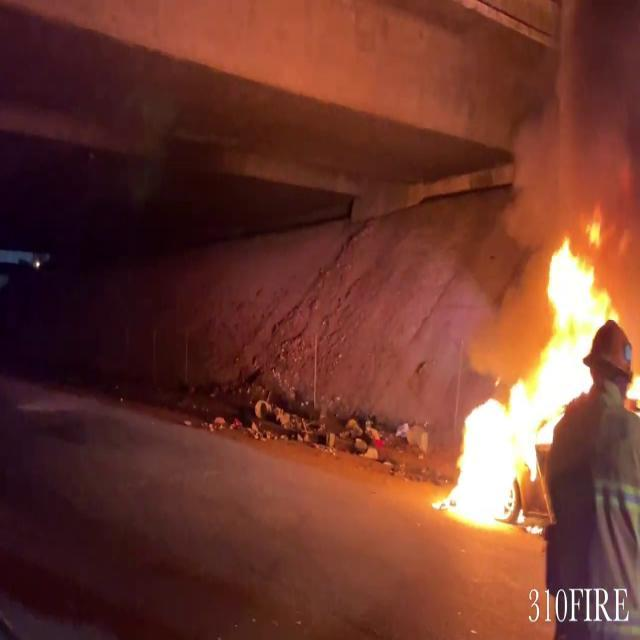Fire: (438, 215, 634, 533)
Smoke: (525, 0, 640, 280)
